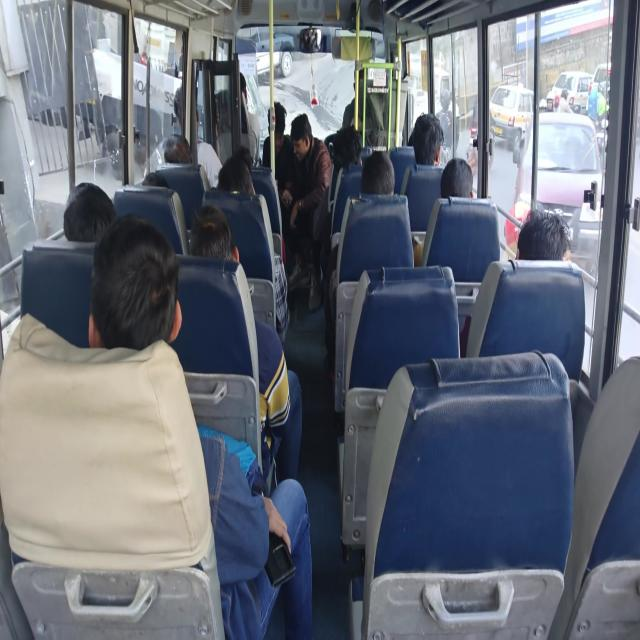person: (88, 213, 313, 638), (1, 214, 226, 638), (189, 202, 303, 483), (325, 150, 414, 375), (216, 152, 290, 344), (281, 112, 331, 310), (413, 156, 474, 266), (172, 84, 223, 189), (261, 100, 296, 204), (63, 181, 116, 243), (516, 208, 572, 261), (342, 70, 380, 146), (408, 112, 443, 165), (434, 88, 459, 161), (217, 154, 255, 195), (360, 150, 394, 195), (331, 125, 362, 171), (440, 157, 474, 198), (162, 134, 192, 164)
